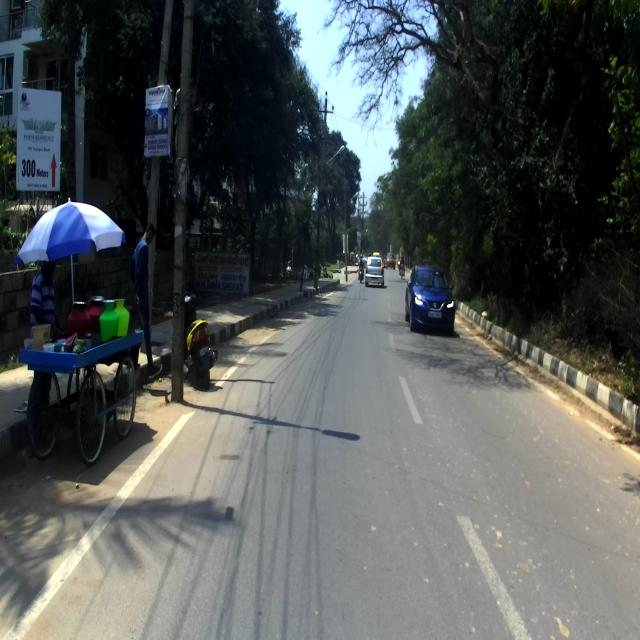electric pole ahead at: (169, 0, 194, 407)
motorcycle ahead at: (183, 289, 220, 391)
person ahead at: (133, 214, 161, 376)
